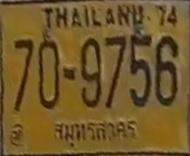0: (38, 41, 60, 110)
5: (130, 35, 151, 108)
6: (154, 36, 178, 106)
7: (105, 36, 126, 107), (14, 39, 33, 110)
9: (80, 38, 101, 106)
SKN: (49, 115, 140, 149)
